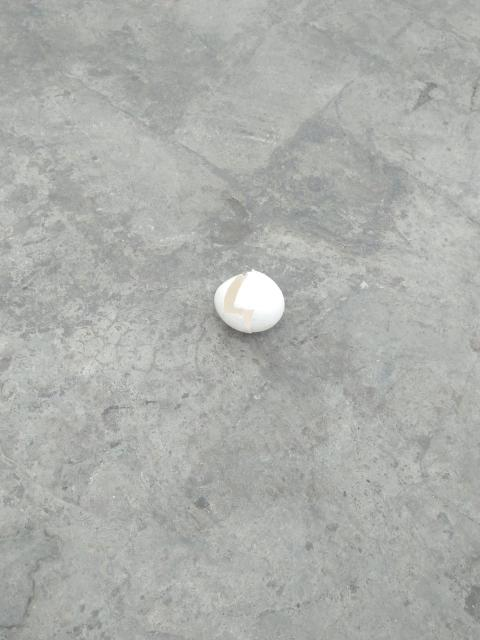Roto: (212, 268, 285, 334)
